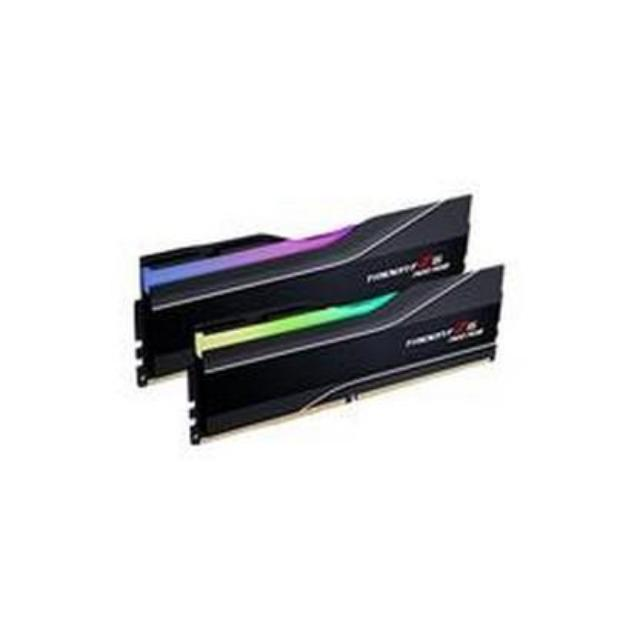RAM: (128, 186, 508, 448)
